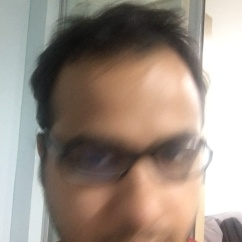glasses: (47, 136, 216, 177)
